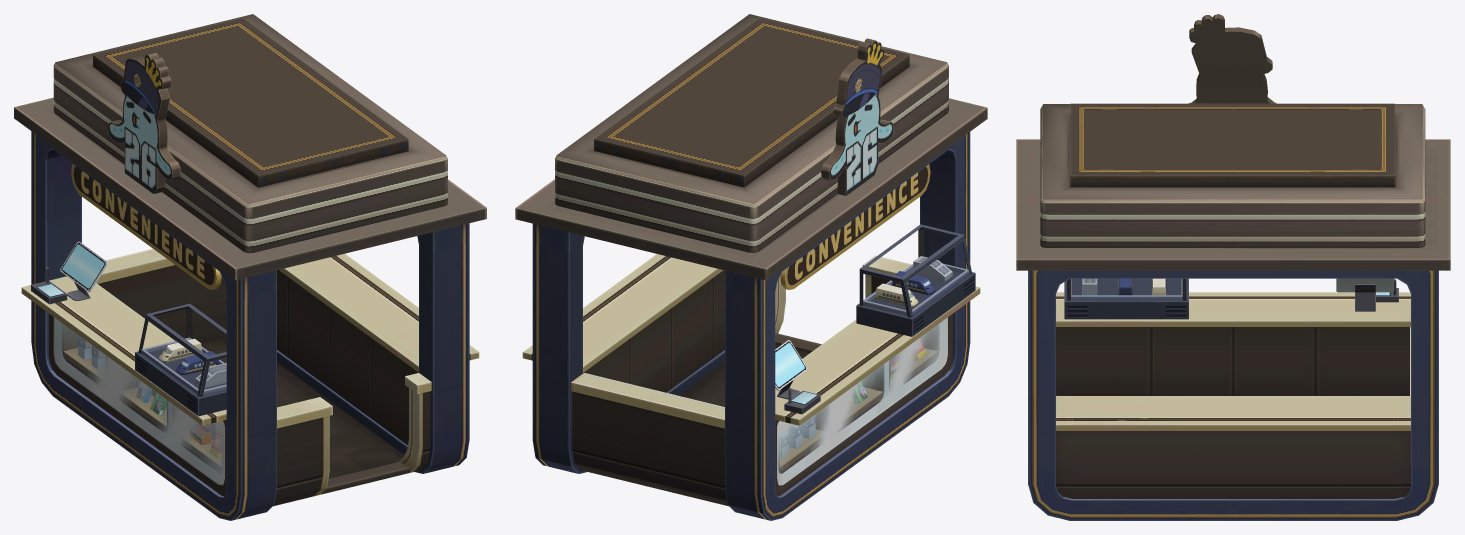
Rendered from my_highlander_01_newsstand_02.glb.
The picture shows the model from 3 angles, left to right: view 1: azimuth 30°, elevation 25°; view 2: azimuth 150°, elevation 25°; view 3: azimuth 270°, elevation 25°; orthographic projection.
Visible parts, largest first — view 1: my_highlander_01_newsstand_02; view 2: my_highlander_01_newsstand_02; view 3: my_highlander_01_newsstand_02.
Part boxes in pixels (x1=…): my_highlander_01_newsstand_02: x1=14, y1=14, x2=486, y2=520; my_highlander_01_newsstand_02: x1=515, y1=14, x2=987, y2=520; my_highlander_01_newsstand_02: x1=1016, y1=14, x2=1450, y2=520.
Size of the model in its own units: 0.0144 by 0.0202 by 0.0199.
2 materials, 2 textured.
